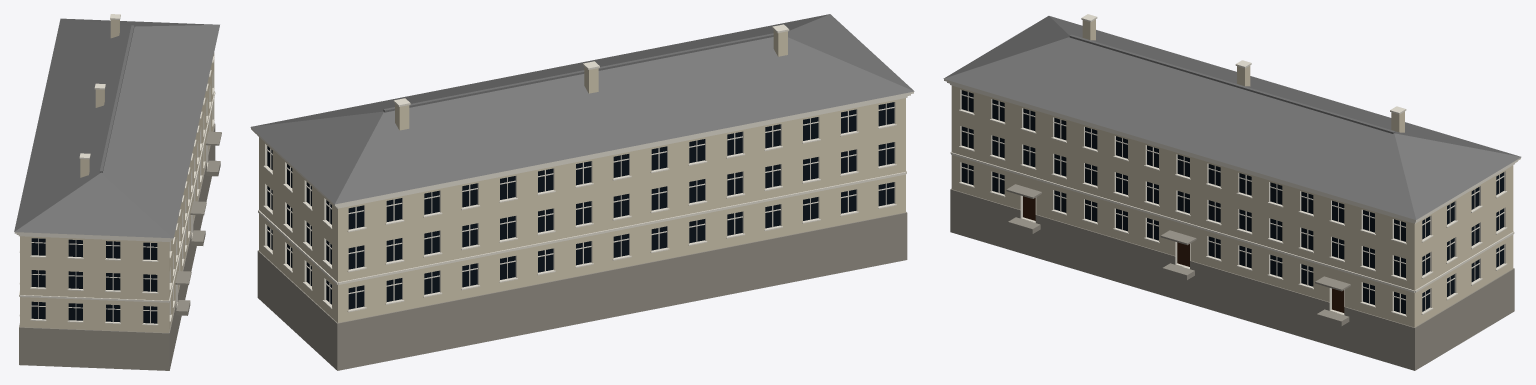
3 views of the same model, side by side, from view 1: azimuth 30°, elevation 25°; view 2: azimuth 150°, elevation 25°; view 3: azimuth 270°, elevation 25° (orthographic). The views are drawn at different scales.
Parts seen in each view (by area): view 1: w91092515_roof, w91092515_wall, w91092515_stone, w91092515_trim, w91092515_glass; view 2: w91092515_wall, w91092515_roof, w91092515_stone, w91092515_glass, w91092515_trim; view 3: w91092515_roof, w91092515_wall, w91092515_stone, w91092515_trim, w91092515_glass, w91092515_wood.
Part boxes in pixels (box(x1,y1,x2,y2)): w91092515_roof: box(14, 18, 219, 238); w91092515_wall: box(20, 19, 214, 332); w91092515_stone: box(19, 123, 221, 370); w91092515_trim: box(14, 14, 215, 325); w91092515_glass: box(31, 238, 157, 323); w91092515_wall: box(259, 30, 905, 322); w91092515_roof: box(250, 14, 914, 204); w91092515_stone: box(257, 212, 907, 370); w91092515_glass: box(267, 102, 894, 309); w91092515_trim: box(251, 24, 913, 312); w91092515_roof: box(943, 16, 1521, 219); w91092515_wall: box(951, 19, 1513, 327); w91092515_stone: box(950, 184, 1514, 370); w91092515_trim: box(944, 14, 1520, 316); w91092515_glass: box(961, 90, 1503, 314); w91092515_wood: box(1023, 196, 1344, 312).
Bounding box in the file's own units: 39.91 × 18.34 × 47.73.
